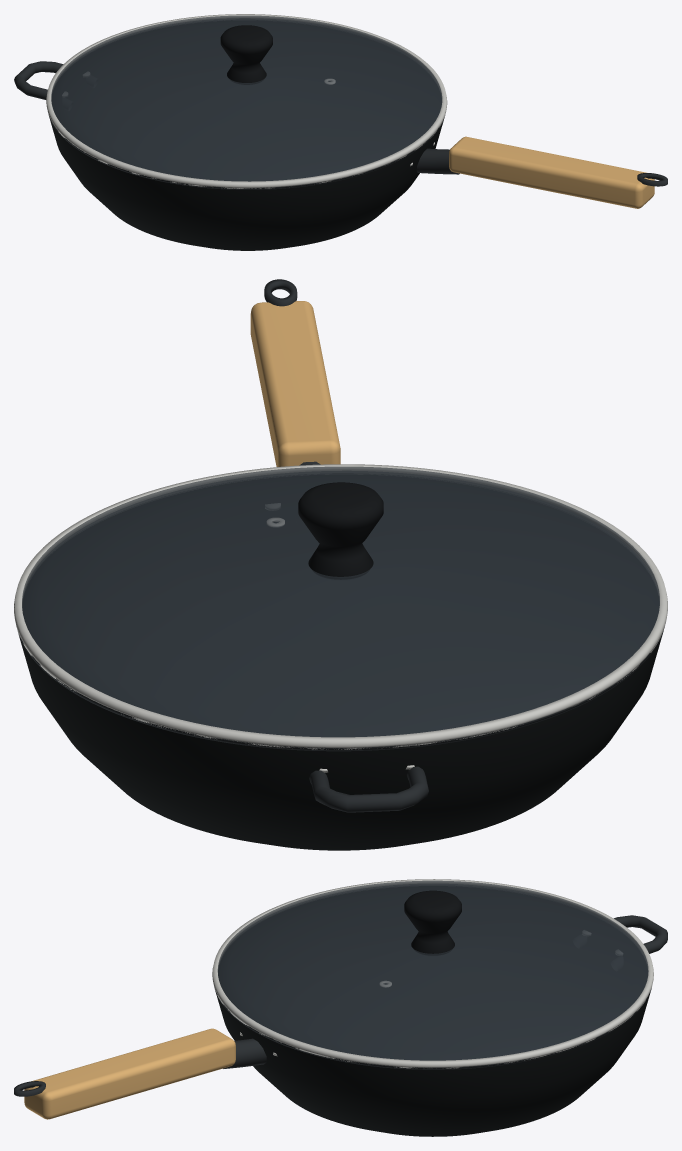
File: wok-refined.glb
3 renders of one model, top to bottom at view 1: azimuth 30°, elevation 25°; view 2: azimuth 150°, elevation 25°; view 3: azimuth 270°, elevation 25°, orthographic. The views are drawn at different scales.
Parts seen in each view (by area): view 1: Hollow spun carbon steel bowl, Thin curved smoked glass lid, Solid birch handle, Stainless glass rim, Raised tapered black lid knob, Loop helper handle, Rolled black bowl rim, Black steel handle ferrule; view 2: Hollow spun carbon steel bowl, Thin curved smoked glass lid, Stainless glass rim, Solid birch handle, Raised tapered black lid knob, Loop helper handle, Rolled black bowl rim; view 3: Hollow spun carbon steel bowl, Thin curved smoked glass lid, Solid birch handle, Stainless glass rim, Raised tapered black lid knob, Loop helper handle, Rolled black bowl rim, Black steel handle ferrule, Black hanging eye.
Part boxes in pixels (box(x1,y1,x2,y2)): Hollow spun carbon steel bowl: box(49, 21, 443, 250); Thin curved smoked glass lid: box(51, 15, 442, 181); Solid birch handle: box(449, 136, 654, 208); Stainless glass rim: box(46, 14, 447, 188); Raised tapered black lid knob: box(220, 25, 272, 84); Loop helper handle: box(14, 61, 97, 110); Rolled black bowl rim: box(48, 114, 445, 189); Black steel handle ferrule: box(416, 148, 459, 174); Hollow spun carbon steel bowl: box(19, 475, 662, 850); Thin curved smoked glass lid: box(22, 466, 659, 737); Stainless glass rim: box(14, 464, 667, 749); Solid birch handle: box(250, 301, 340, 466); Raised tapered black lid knob: box(298, 482, 383, 579); Loop helper handle: box(309, 766, 428, 812); Rolled black bowl rim: box(16, 626, 664, 751); Hollow spun carbon steel bowl: box(216, 886, 650, 1136); Thin curved smoked glass lid: box(217, 880, 648, 1060); Solid birch handle: box(24, 1028, 235, 1119); Stainless glass rim: box(212, 879, 653, 1068); Raised tapered black lid knob: box(404, 890, 461, 955); Loop helper handle: box(573, 915, 667, 970); Rolled black bowl rim: box(214, 987, 651, 1069); Black steel handle ferrule: box(223, 1038, 266, 1068); Black hanging eye: box(14, 1081, 45, 1096).
Bounding box in the file's own units: 0.3764 × 0.158 × 0.4814.
